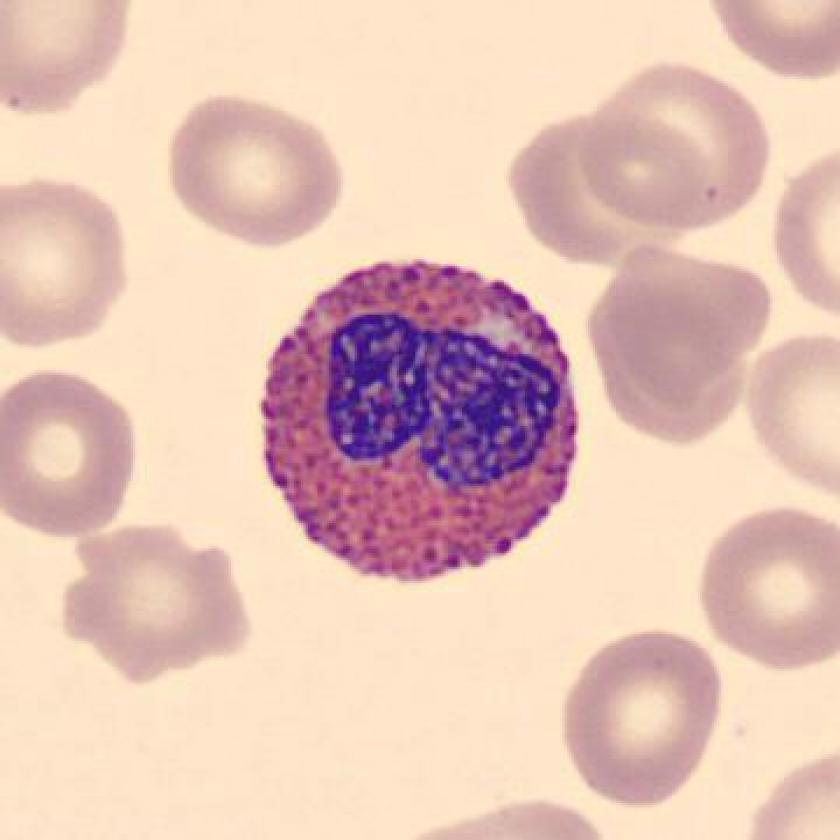eosinophil: (246, 242, 598, 593)
